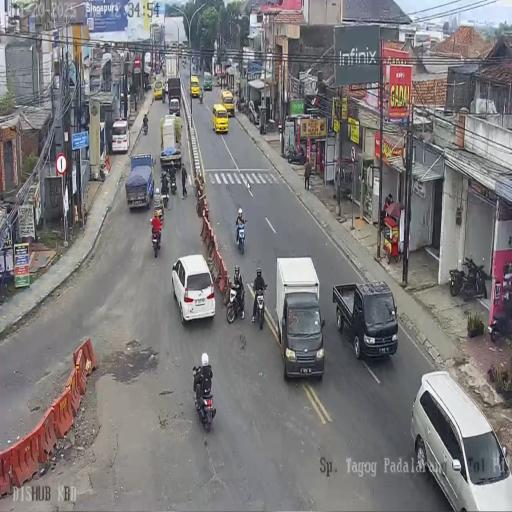car: (411, 369, 511, 507), (276, 257, 325, 380), (332, 282, 398, 359), (172, 255, 216, 326), (111, 118, 130, 154), (212, 104, 229, 134), (247, 100, 259, 124), (190, 76, 200, 97), (202, 72, 212, 91), (154, 79, 163, 100)
motorcycle: (193, 368, 216, 432), (460, 255, 487, 301), (227, 281, 246, 324), (488, 305, 509, 343), (253, 286, 267, 329), (150, 220, 162, 257), (235, 218, 246, 254), (287, 145, 306, 165), (160, 178, 170, 207), (168, 168, 177, 195), (142, 118, 148, 135), (236, 96, 241, 113), (199, 88, 204, 104), (162, 87, 166, 102), (182, 59, 186, 69), (192, 64, 196, 72)
truck: (126, 154, 155, 211), (160, 114, 182, 169), (167, 76, 181, 111), (164, 54, 178, 83), (144, 52, 151, 76)
